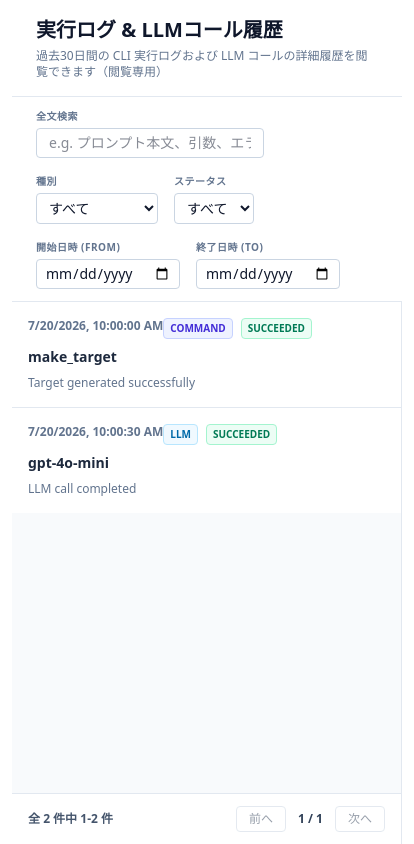
Test case: toggles mobile detail panel when multiple rows are clicked
expect the text "make_target" is shown: met, box [28,347,117,367]
expect the text "gpt-4o-mini" is shown: met, box [28,453,109,473]
Click the button "make_target": (96, 326) [12,302,401,408]
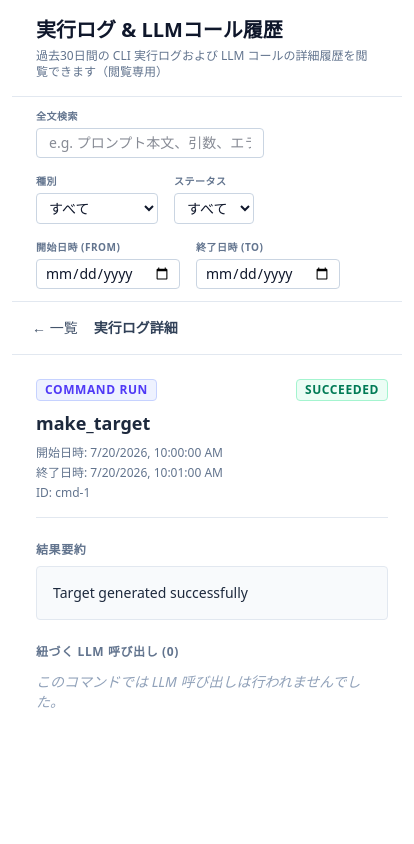
expect the button "← 一覧" is shown: met
Click the button with aria-label "一覧に戻る": (55, 328) [24,314,86,342]
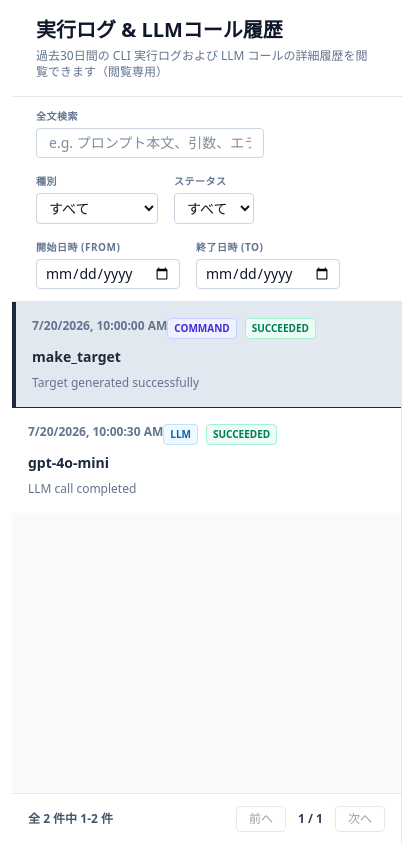
Click the button "make_target": (100, 326) [12,302,401,408]
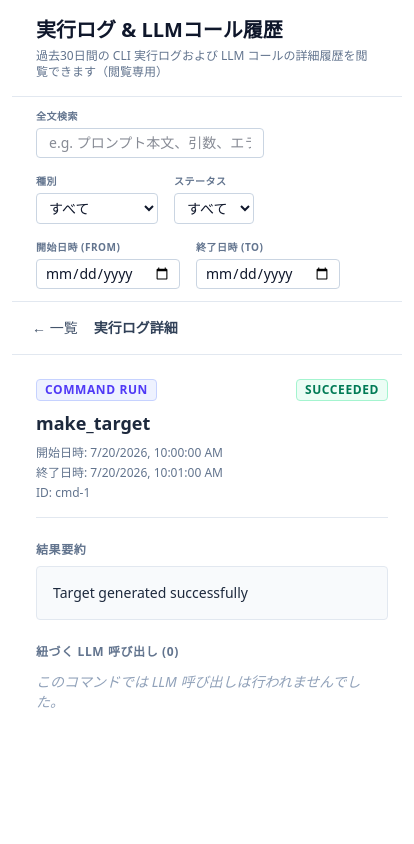
expect the button "← 一覧" is shown: met, box [24,314,86,342]
